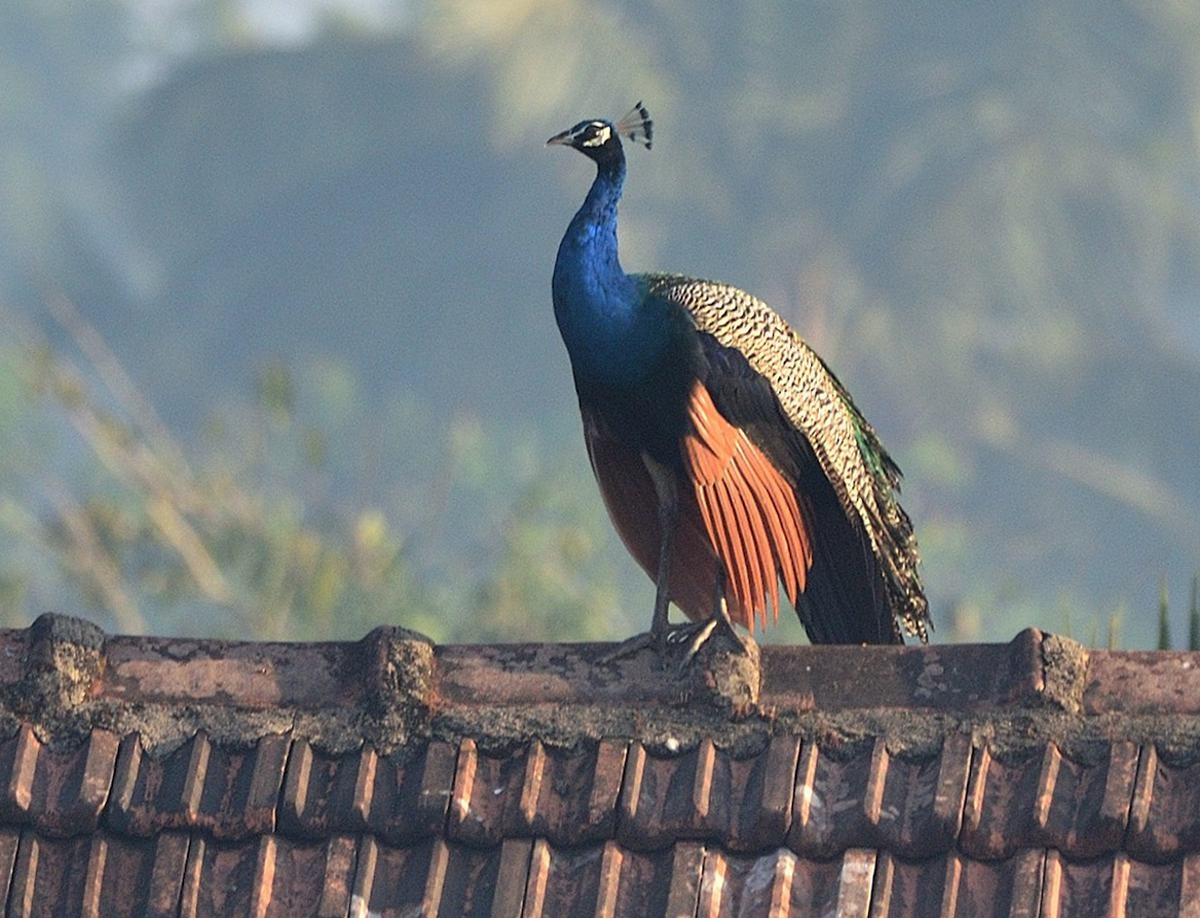peacock: (503, 55, 915, 641)
